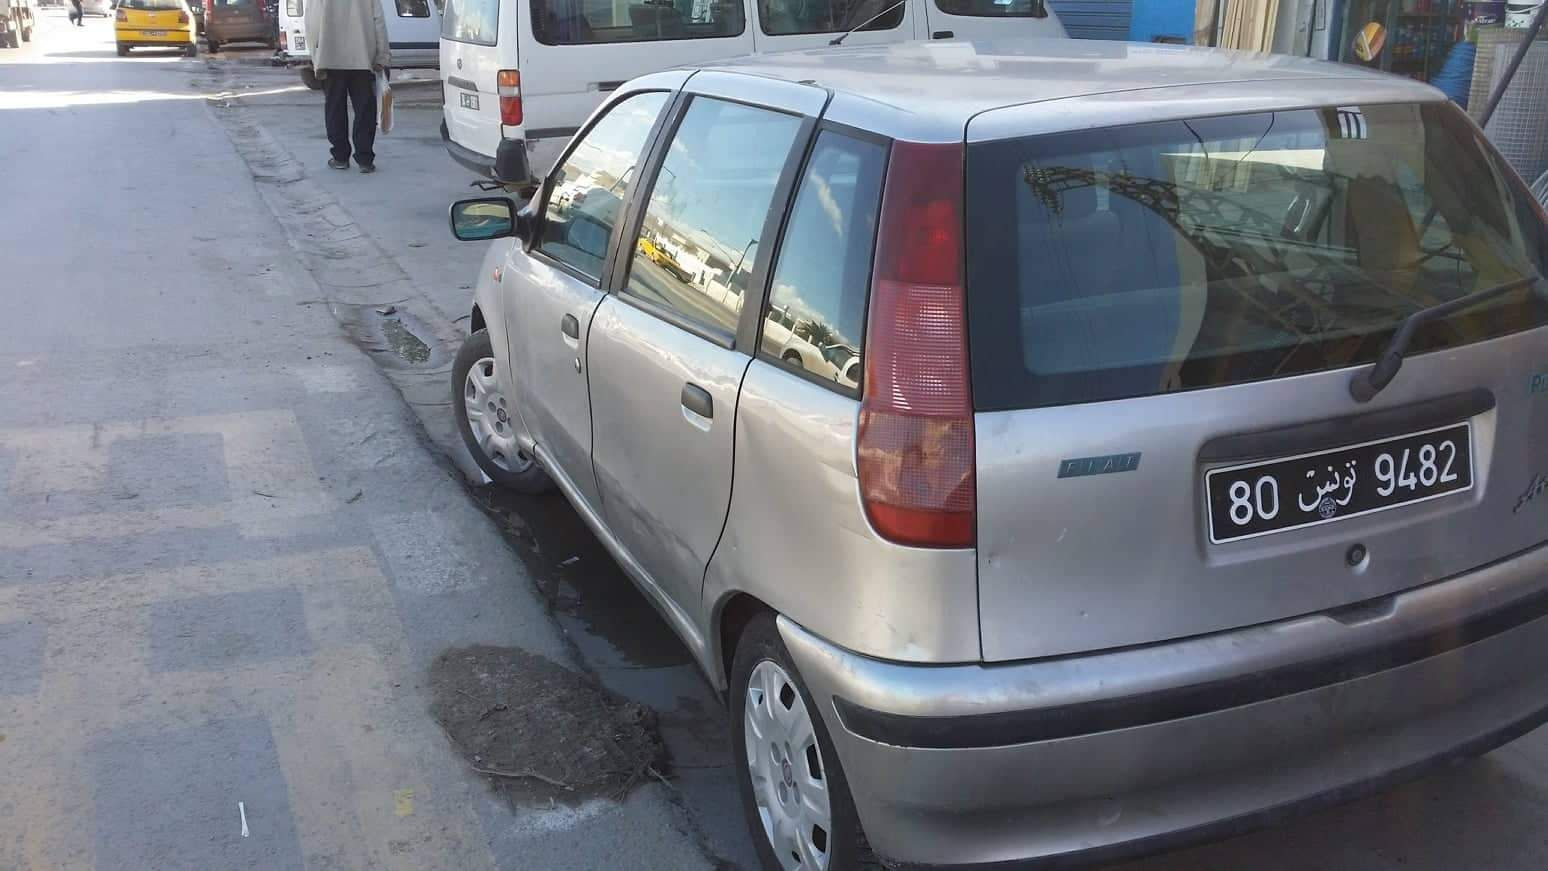LP: (1207, 421, 1479, 545)
